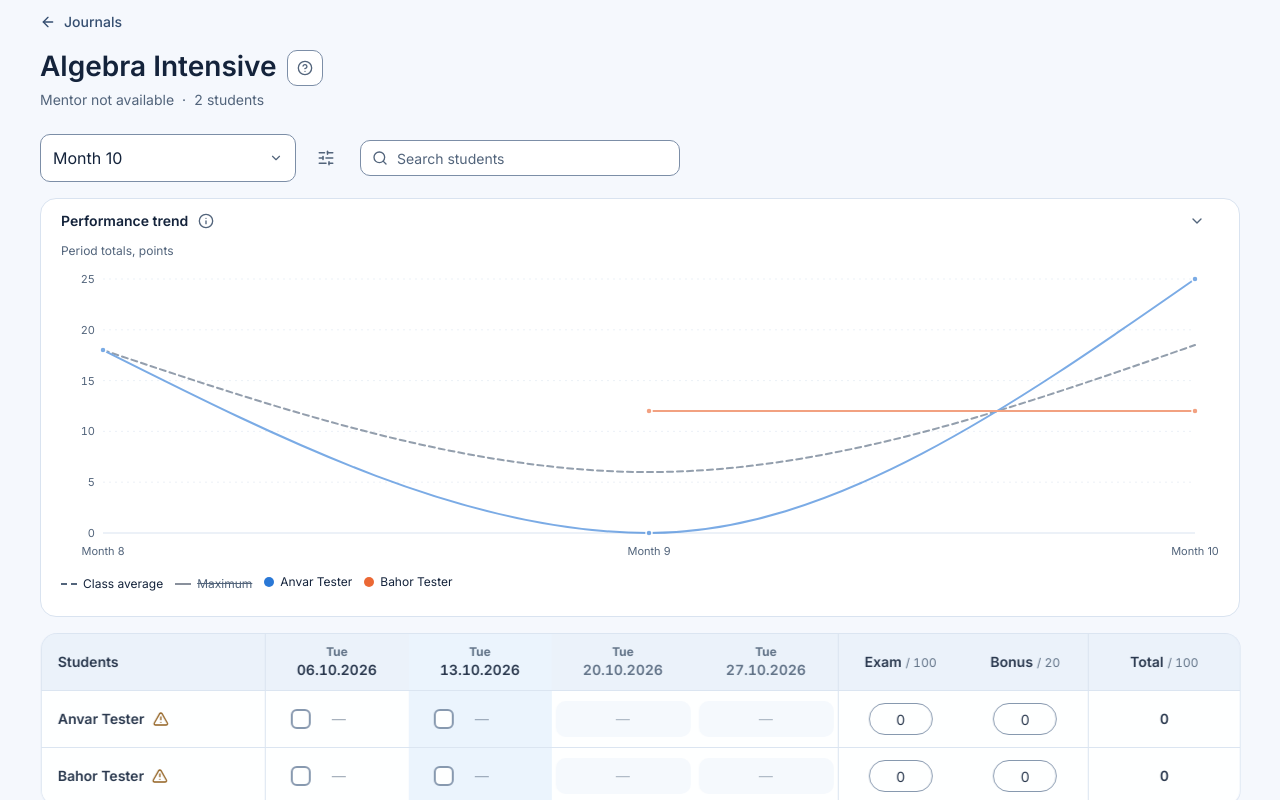
Test: workspace anatomy › keeps the exam limit reachable through Period settings
Click the button named "Period settings": (326,158) [304,136,348,180]
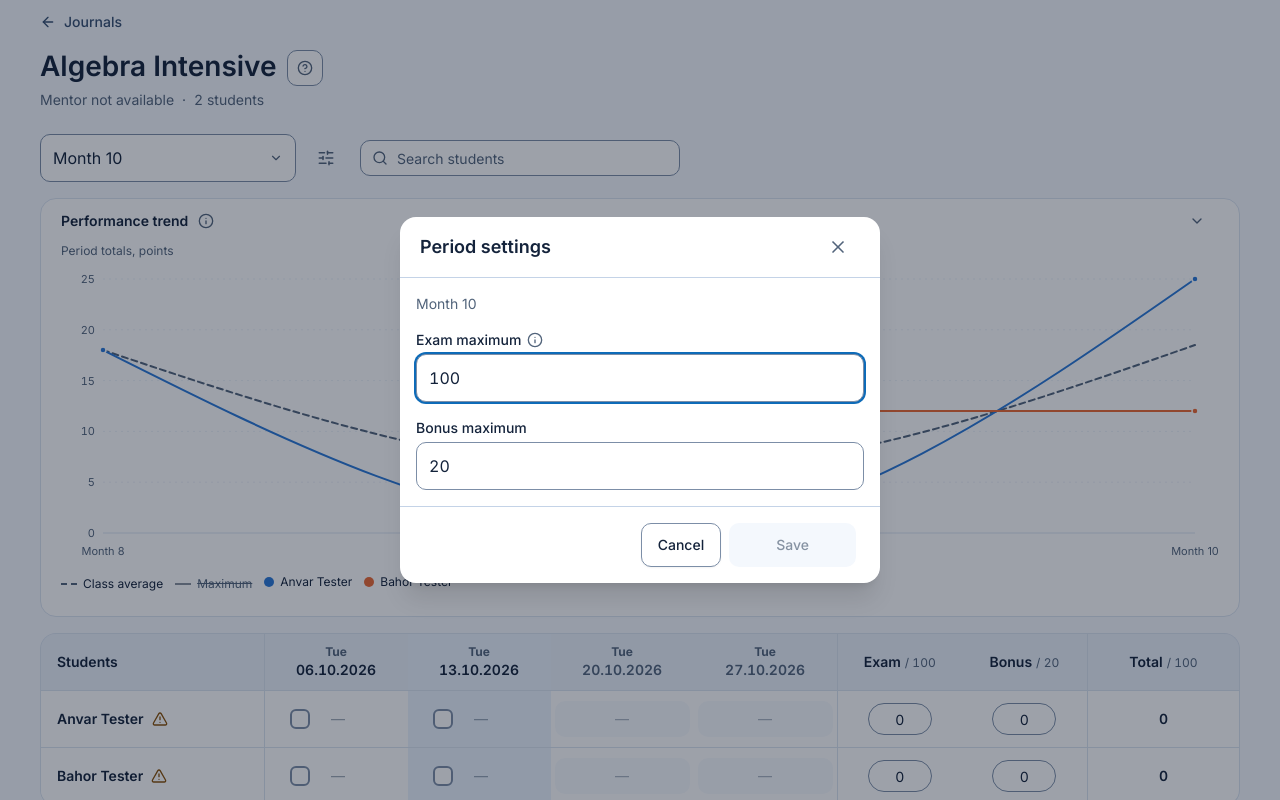
Expected: the dialog "Period settings" is shown, [400,217,880,583]
